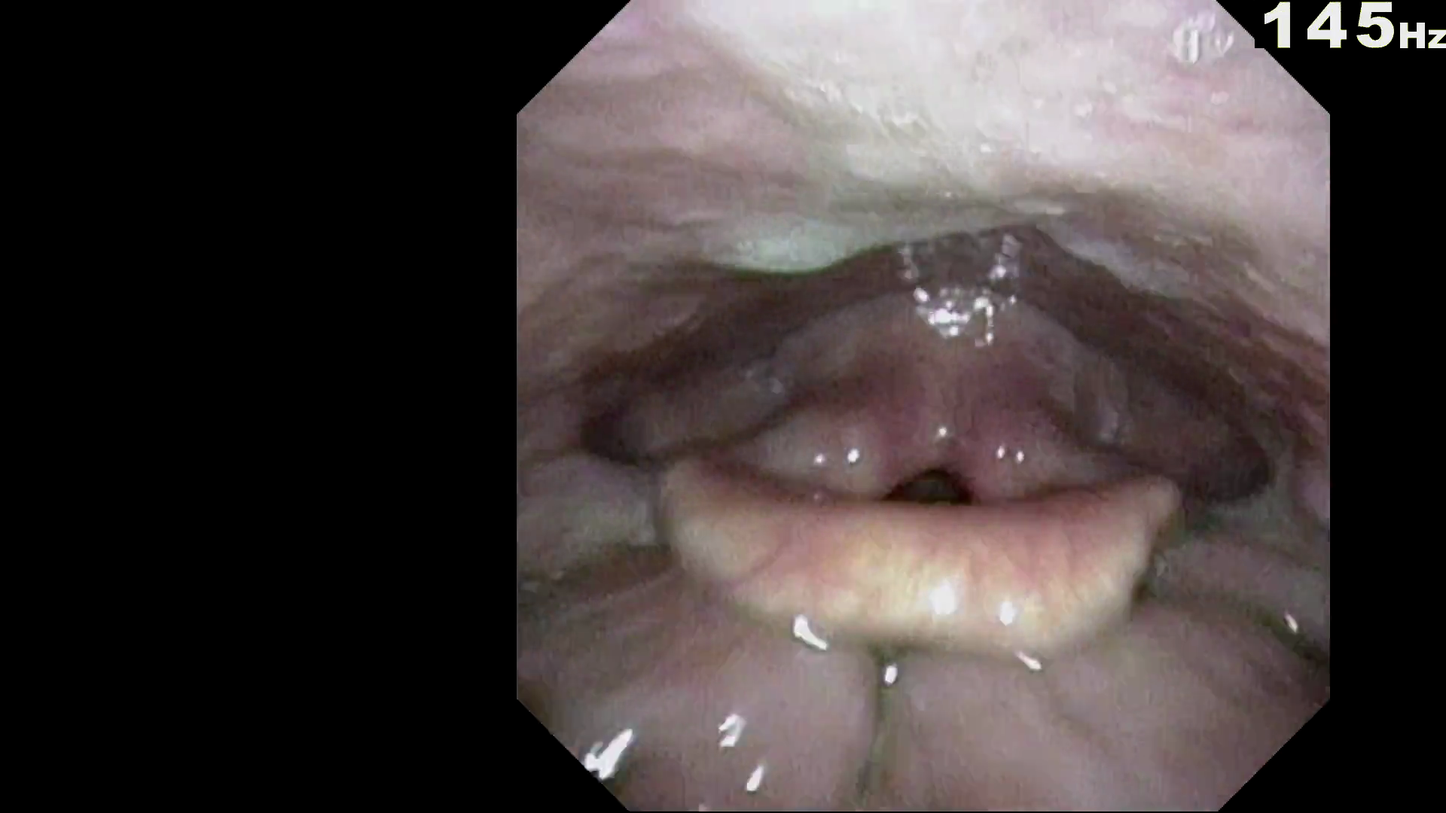epiglottis: (683, 467, 1185, 579)
